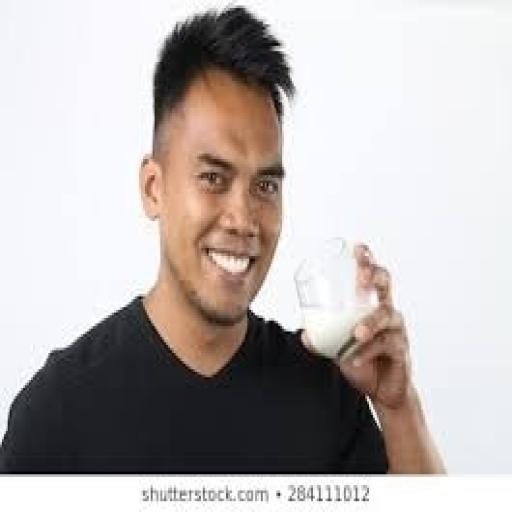drinking: (292, 234, 376, 366)
